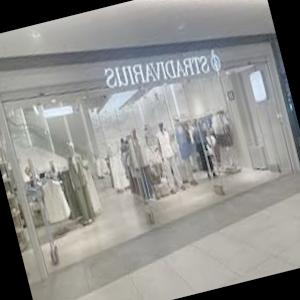stradivarius: (97, 38, 231, 97)
